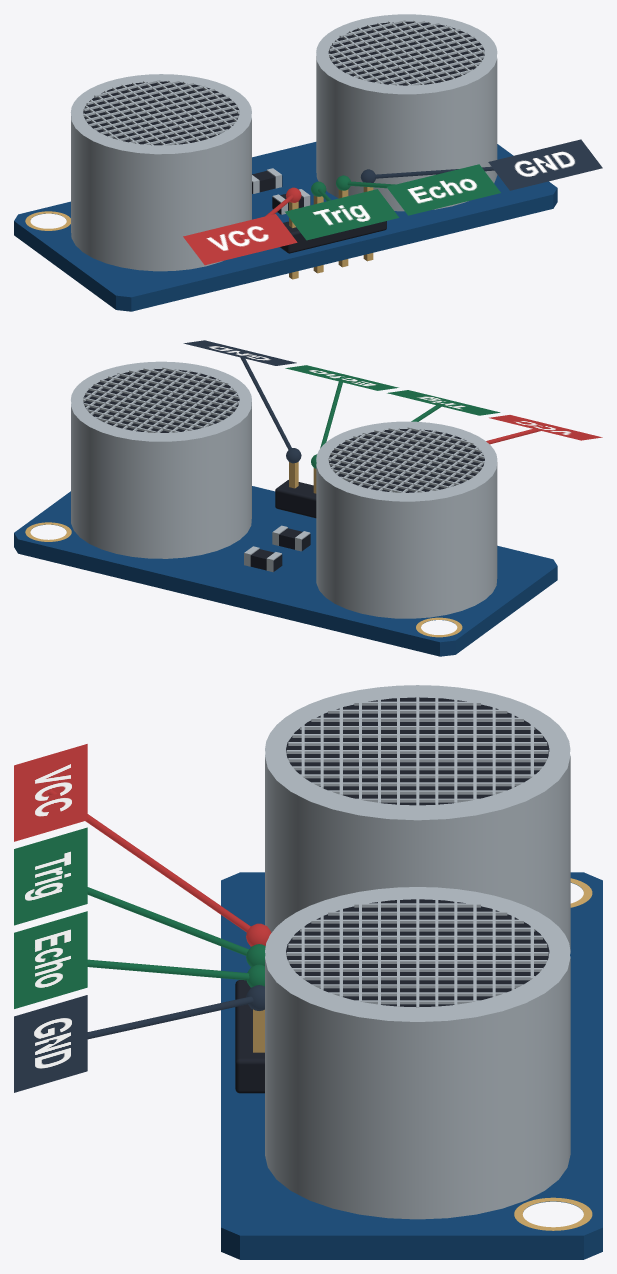
The picture shows the model from 3 angles, top to bottom: view 1: azimuth 30°, elevation 25°; view 2: azimuth 150°, elevation 25°; view 3: azimuth 270°, elevation 25°; orthographic projection. The views are drawn at different scales.
Parts seen in each view (by area): view 1: hc-sr04, Trig, Echo, GND, VCC, Terminal labels; view 2: hc-sr04, Terminal labels, Trig, VCC, Echo, GND; view 3: hc-sr04, Terminal labels, Trig, Echo, GND, VCC.
Boxes of the visible parts, x1,y1,x2,y2 form: hc-sr04: (14,14,557,311); Trig: (285,189,399,240); Echo: (387,164,500,215); GND: (488,139,602,190); VCC: (183,214,297,265); Terminal labels: (238,163,545,239); hc-sr04: (14,361,557,656); Terminal labels: (238,351,545,468); Trig: (387,390,500,415); VCC: (489,415,602,440); Echo: (285,365,398,390); GND: (183,340,296,365); hc-sr04: (221,685,602,1259); Terminal labels: (48,789,271,1043); Trig: (14,827,87,925); Echo: (14,911,87,1008); GND: (14,995,87,1092); VCC: (14,744,87,841).
Size of the model in its own units: 0.045 by 0.0148 by 0.0308.
Materials: 12 (4 with a texture image).
